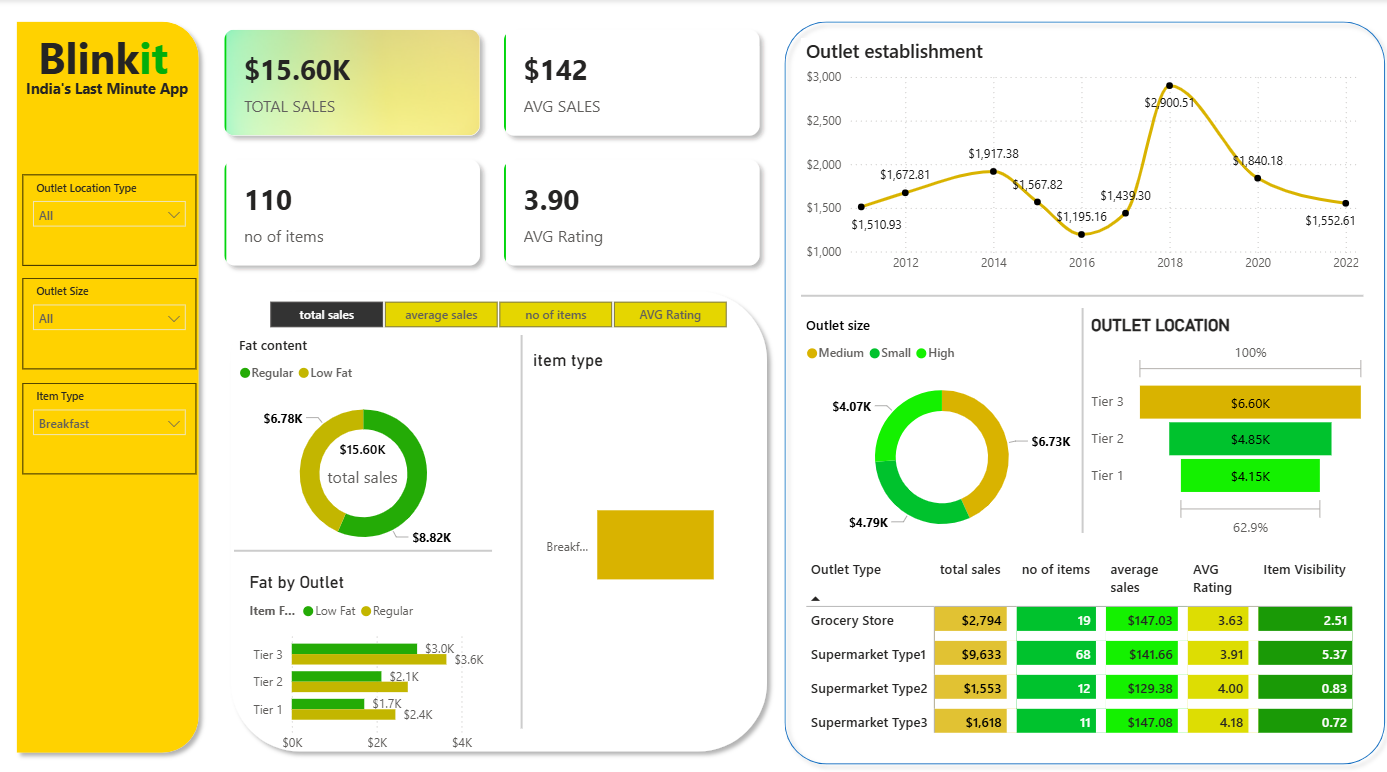

Layout of this report page (visuals, bound fields, positions):
{"tool":"powerbi","page":{"name":"Page 1","canvas":[1400,800],"ordinal":0},"visuals":[{"type":"shape","box":[9.9,13.2,200.4,750.2],"z":0},{"type":"textbox","box":[35.7,24.3,200,67.1],"z":1000},{"type":"textbox","box":[24.3,72.9,275.7,41.4],"z":2000},{"type":"cardVisual","fields":{"Data":["BlinkIT Grocery Data.total sales","BlinkIT Grocery Data.average sales","BlinkIT Grocery Data.no of items","BlinkIT Grocery Data.AVG Rating"]},"box":[210,12.9,570,270],"z":3000},{"type":"shape","box":[225.2,283.2,554.8,478.6],"z":4000},{"type":"donutChart","title":"Fat content","fields":{"Y":["BlinkIT Grocery Data.total sales"],"Category":["BlinkIT Grocery Data.Item Fat Content"]},"box":[236.8,336.2,258.4,230.2],"z":5000},{"type":"slicer","fields":{"Values":["metrics.metrics"]},"box":[248.4,296.5,506.8,39.7],"z":6000},{"type":"cardVisual","fields":{"Data":["BlinkIT Grocery Data.total sales"]},"box":[286.5,420.7,159,89.4],"z":7000},{"type":"clusteredBarChart","title":"Fat by Outlet","fields":{"Y":["BlinkIT Grocery Data.total sales"],"Category":["BlinkIT Grocery Data.Outlet Location Type"],"Series":["BlinkIT Grocery Data.Item Fat Content"]},"box":[248.4,573,255,188.8],"z":8000},{"type":"shape","box":[236.8,523.3,258.4,59.6],"z":9000},{"type":"shape","box":[409.1,336.2,233.5,394.2],"z":10000},{"type":"barChart","title":"item type","fields":{"Y":["BlinkIT Grocery Data.total sales"],"Category":["BlinkIT Grocery Data.Item Type"]},"box":[531.6,351.1,223.6,366],"z":11000},{"type":"shape","box":[780.1,13.2,619.4,761.8],"z":11001},{"type":"lineChart","title":"Outlet establishment","fields":{"Category":["BlinkIT Grocery Data.Outlet Establishment Year"],"Y":["BlinkIT Grocery Data.total sales"]},"box":[804.9,39.7,563.1,243.5],"z":11002},{"type":"shape","box":[804.9,266.6,563.1,59.6],"z":11003},{"type":"donutChart","title":"Outlet size","fields":{"Category":["BlinkIT Grocery Data.Outlet Size"],"Y":["BlinkIT Grocery Data.total sales"]},"box":[804.9,316.3,281.5,236.8],"z":11004},{"type":"shape","box":[970.5,309.7,233.5,225.2],"z":11005},{"type":"funnel","title":"OUTLET LOCATION","fields":{"Y":["BlinkIT Grocery Data.total sales"],"Category":["BlinkIT Grocery Data.Outlet Location Type"]},"box":[1089.8,316.3,284.9,226.9],"z":11006},{"type":"pivotTable","fields":{"Rows":["BlinkIT Grocery Data.Outlet Type"],"Values":["BlinkIT Grocery Data.total sales","BlinkIT Grocery Data.no of items","BlinkIT Grocery Data.average sales","BlinkIT Grocery Data.AVG Rating","Sum(BlinkIT Grocery Data.Item Visibility)"]},"box":[804.9,553.2,581.3,210.3],"z":11007},{"type":"slicer","fields":{"Values":["BlinkIT Grocery Data.Outlet Location Type"]},"box":[24.8,175.6,173.9,91.1],"z":11008},{"type":"slicer","fields":{"Values":["BlinkIT Grocery Data.Outlet Size"]},"box":[24.8,279.9,173.9,91.1],"z":11009},{"type":"slicer","fields":{"Values":["BlinkIT Grocery Data.Item Type"]},"box":[24.8,384.2,173.9,91.1],"z":11010}]}

Visuals, with their boxes in screenshot pixels (x1, y1, x2, y2), scaled from the page's 1400x800 canvas onto the 1387x772 screenshot:
shape: rect(10, 13, 208, 737)
textbox: rect(35, 23, 234, 88)
textbox: rect(24, 70, 297, 110)
cardVisual - BlinkIT Grocery Data.total sales x BlinkIT Grocery Data.average sales: rect(208, 12, 773, 273)
shape: rect(223, 273, 773, 735)
"Fat content" donutChart: rect(235, 324, 491, 547)
slicer - metrics.metrics: rect(246, 286, 748, 324)
cardVisual - BlinkIT Grocery Data.total sales: rect(284, 406, 441, 492)
"Fat by Outlet" clusteredBarChart: rect(246, 553, 499, 735)
shape: rect(235, 505, 491, 562)
shape: rect(405, 324, 637, 705)
"item type" barChart: rect(527, 339, 748, 692)
shape: rect(773, 13, 1386, 748)
"Outlet establishment" lineChart: rect(797, 38, 1355, 273)
shape: rect(797, 257, 1355, 315)
"Outlet size" donutChart: rect(797, 305, 1076, 534)
shape: rect(961, 299, 1193, 516)
"OUTLET LOCATION" funnel: rect(1080, 305, 1362, 524)
pivotTable - BlinkIT Grocery Data.Outlet Type x BlinkIT Grocery Data.total sales: rect(797, 534, 1373, 737)
slicer - BlinkIT Grocery Data.Outlet Location Type: rect(25, 169, 197, 257)
slicer - BlinkIT Grocery Data.Outlet Size: rect(25, 270, 197, 358)
slicer - BlinkIT Grocery Data.Item Type: rect(25, 371, 197, 459)
